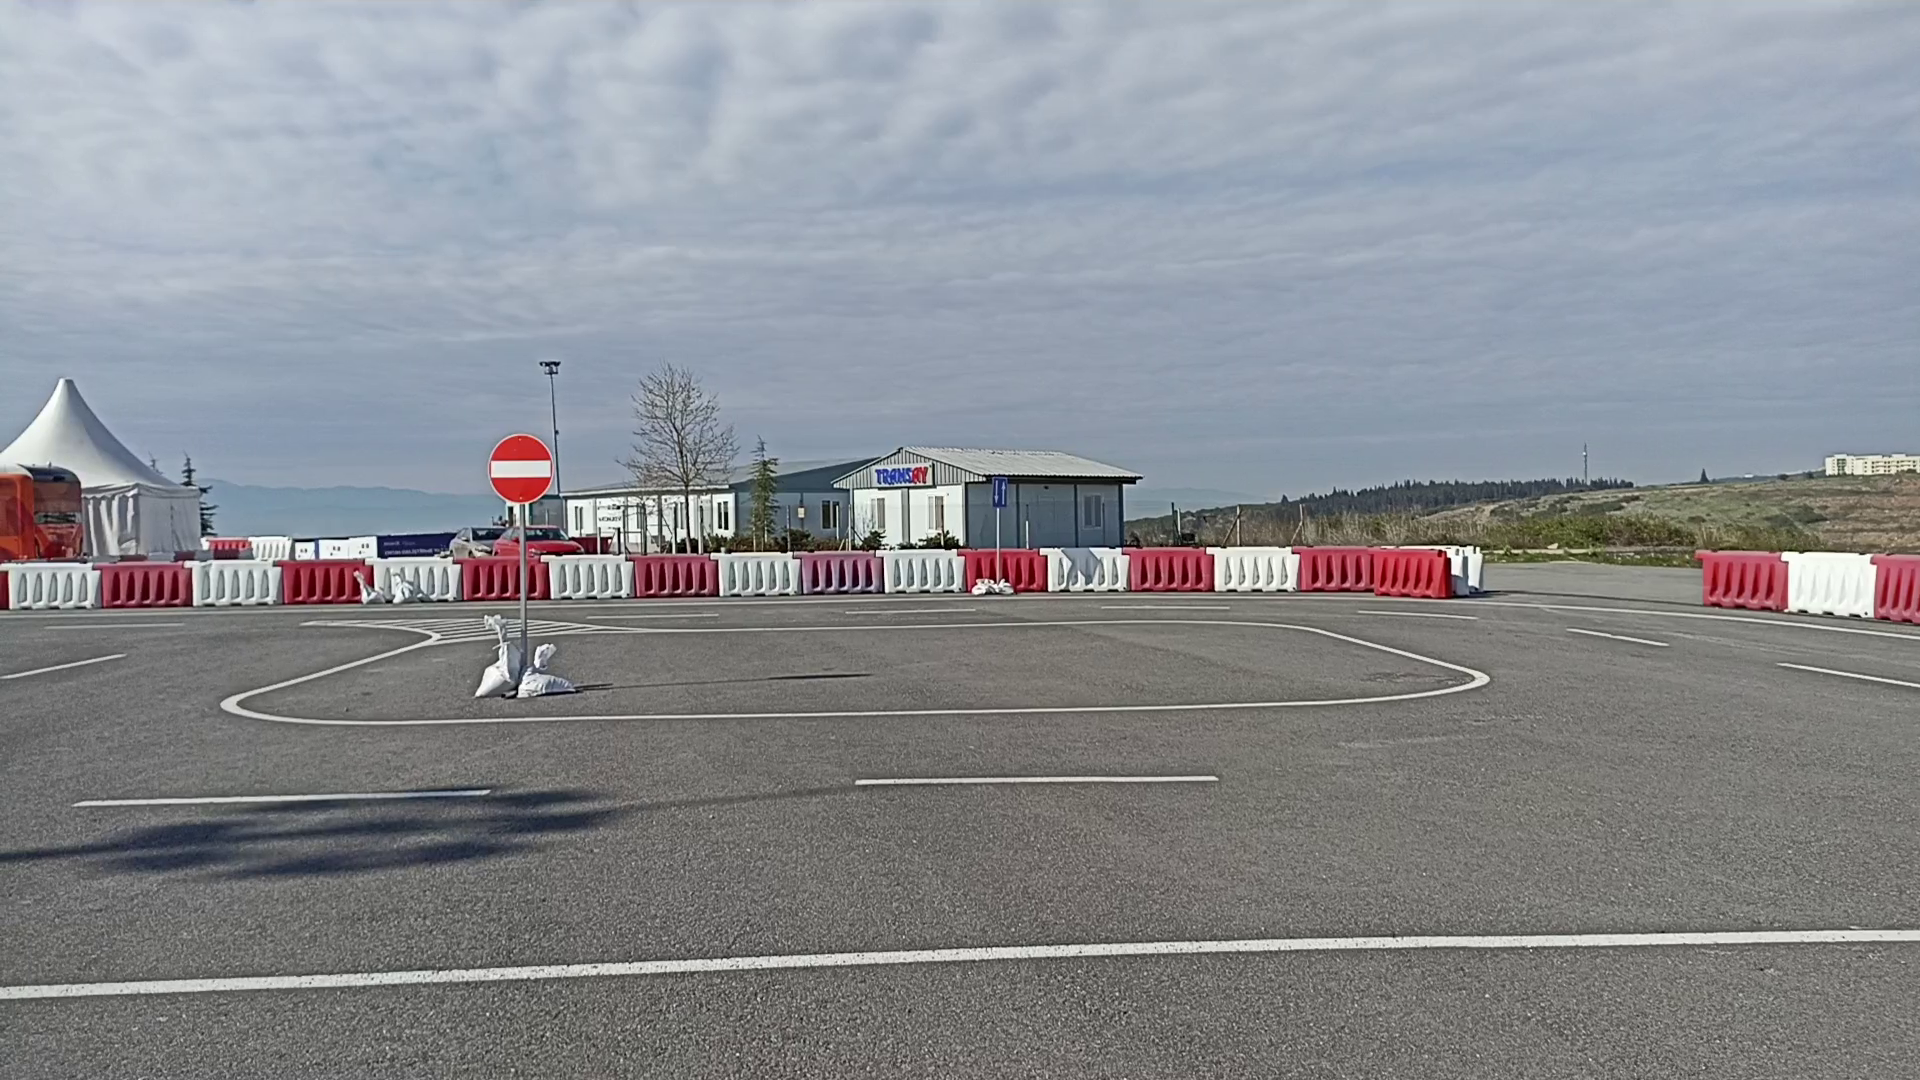noentryway: (487, 433, 556, 502)
